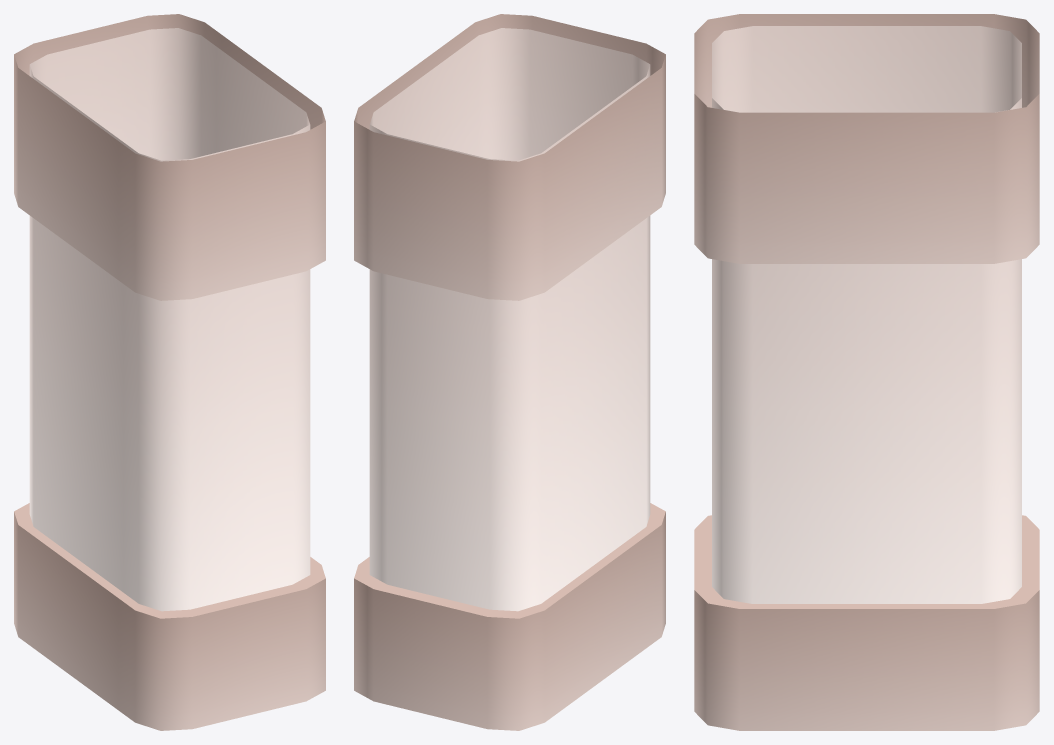
File: road_column_001.glb
3 views of the same model, side by side, from view 1: azimuth 30°, elevation 25°; view 2: azimuth 150°, elevation 25°; view 3: azimuth 270°, elevation 25° (orthographic). The views are drawn at different scales.
Parts seen in each view (by area): view 1: road_column_001; view 2: road_column_001; view 3: road_column_001.
Part boxes in pixels (<box>): road_column_001: <box>14,14,325,730</box>; road_column_001: <box>354,14,665,730</box>; road_column_001: <box>694,14,1039,730</box>.
Bounding box in the file's own units: 4.53 × 13.23 × 6.69.
Materials: 1 (1 with a texture image).
